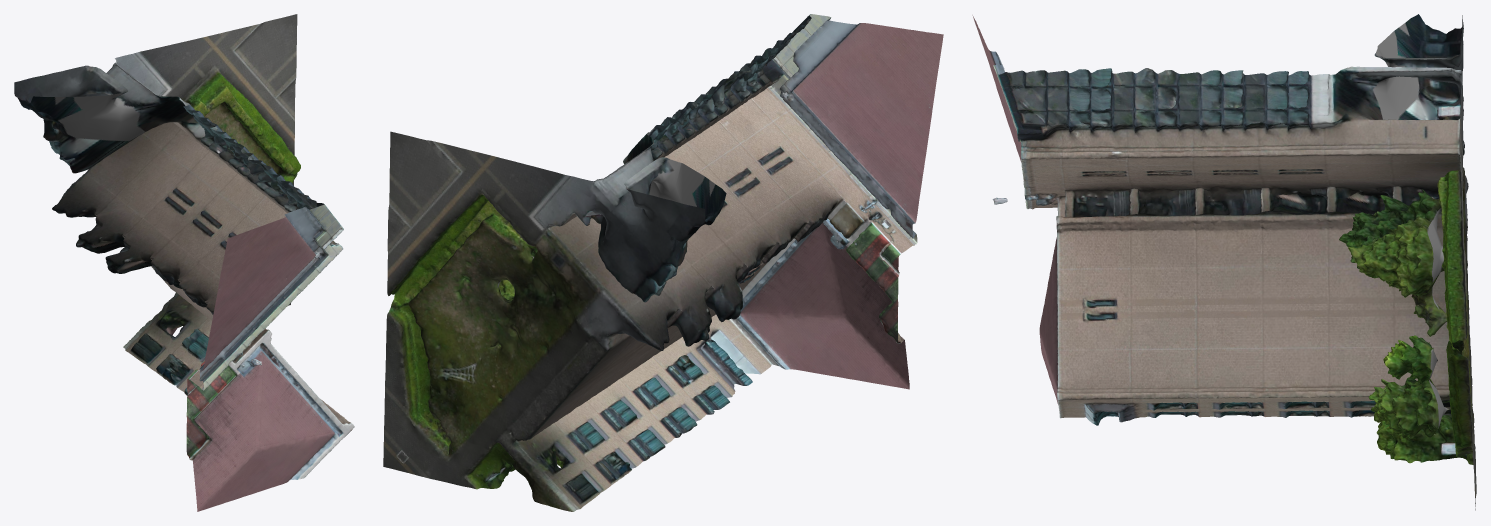
Rendered from Tile_+010_+020.fbx.
The picture shows the model from 3 angles, left to right: view 1: azimuth 30°, elevation 25°; view 2: azimuth 150°, elevation 25°; view 3: azimuth 270°, elevation 25°; orthographic projection. The views are drawn at different scales.
Visible parts, largest first — view 1: DefaultName; view 2: DefaultName; view 3: DefaultName.
Boxes of the visible parts, left/top/right/bottom form: DefaultName: left=14, top=14, right=354, bottom=511; DefaultName: left=383, top=14, right=943, bottom=511; DefaultName: left=972, top=14, right=1476, bottom=510.
Size of the model in its own units: 22.54 by 22.54 by 30.33.
